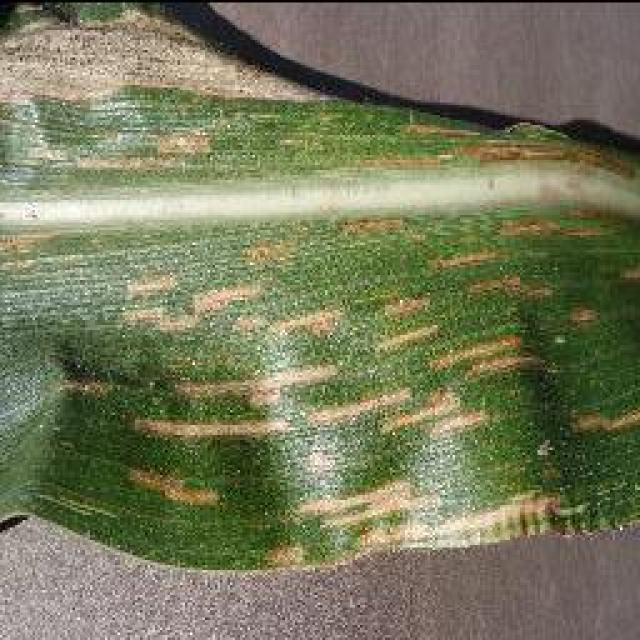Corn_Grey_Leaf_Spot: (0, 195, 640, 560)
